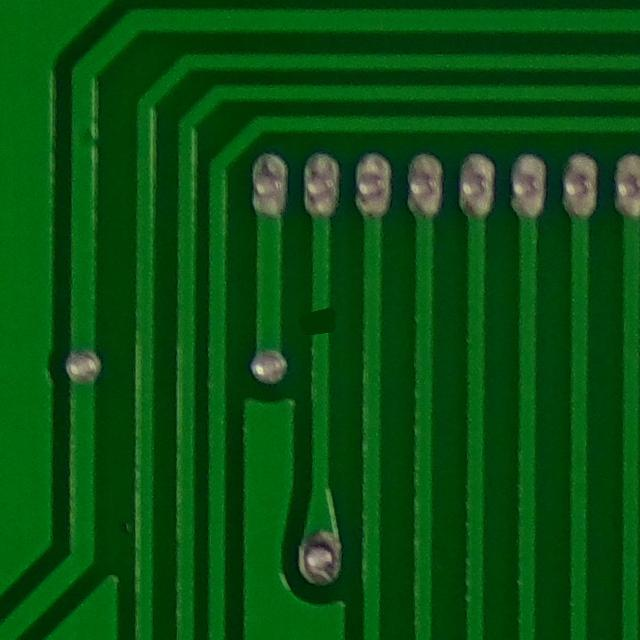open_circuit: (296, 294, 345, 347)
